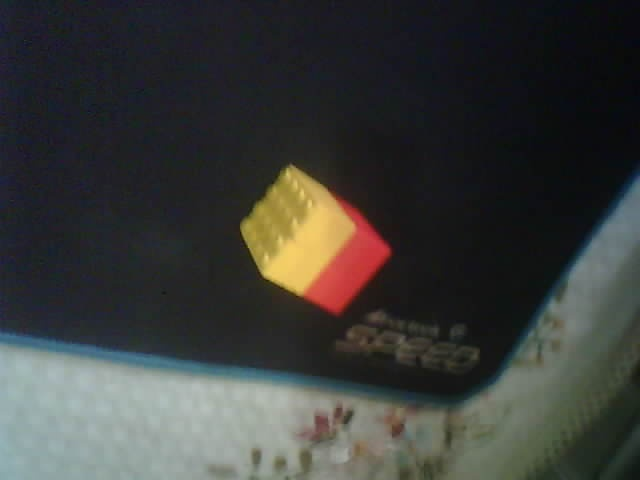lego: (238, 161, 394, 320)
